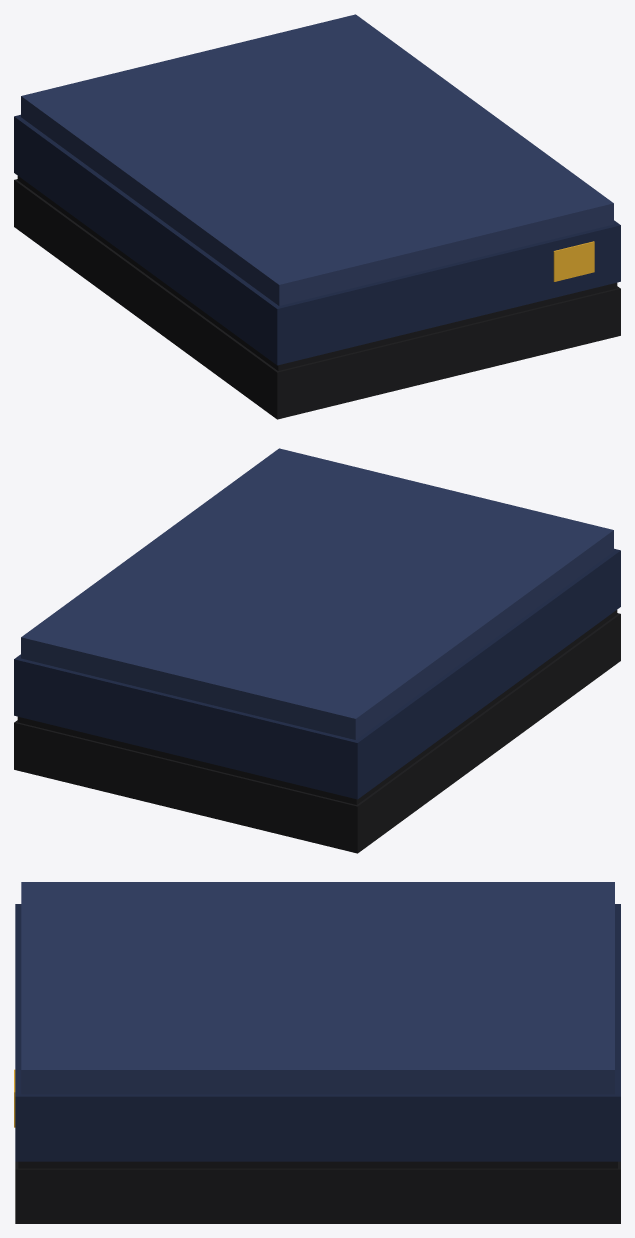
Rendered from pk_mat_navy.glb.
3 renders of one model, top to bottom at view 1: azimuth 30°, elevation 25°; view 2: azimuth 150°, elevation 25°; view 3: azimuth 270°, elevation 25°, orthographic. The views are drawn at different scales.
Visible parts, largest first — view 1: pk_mat_navy; view 2: pk_mat_navy; view 3: pk_mat_navy.
Boxes of the visible parts, left/top/right/bottom form: pk_mat_navy: left=14, top=14, right=620, bottom=419; pk_mat_navy: left=14, top=448, right=620, bottom=853; pk_mat_navy: left=14, top=882, right=620, bottom=1223.
Bounding box in the file's own units: 1.53 × 0.56 × 2.03.
1 material, 1 textured.
